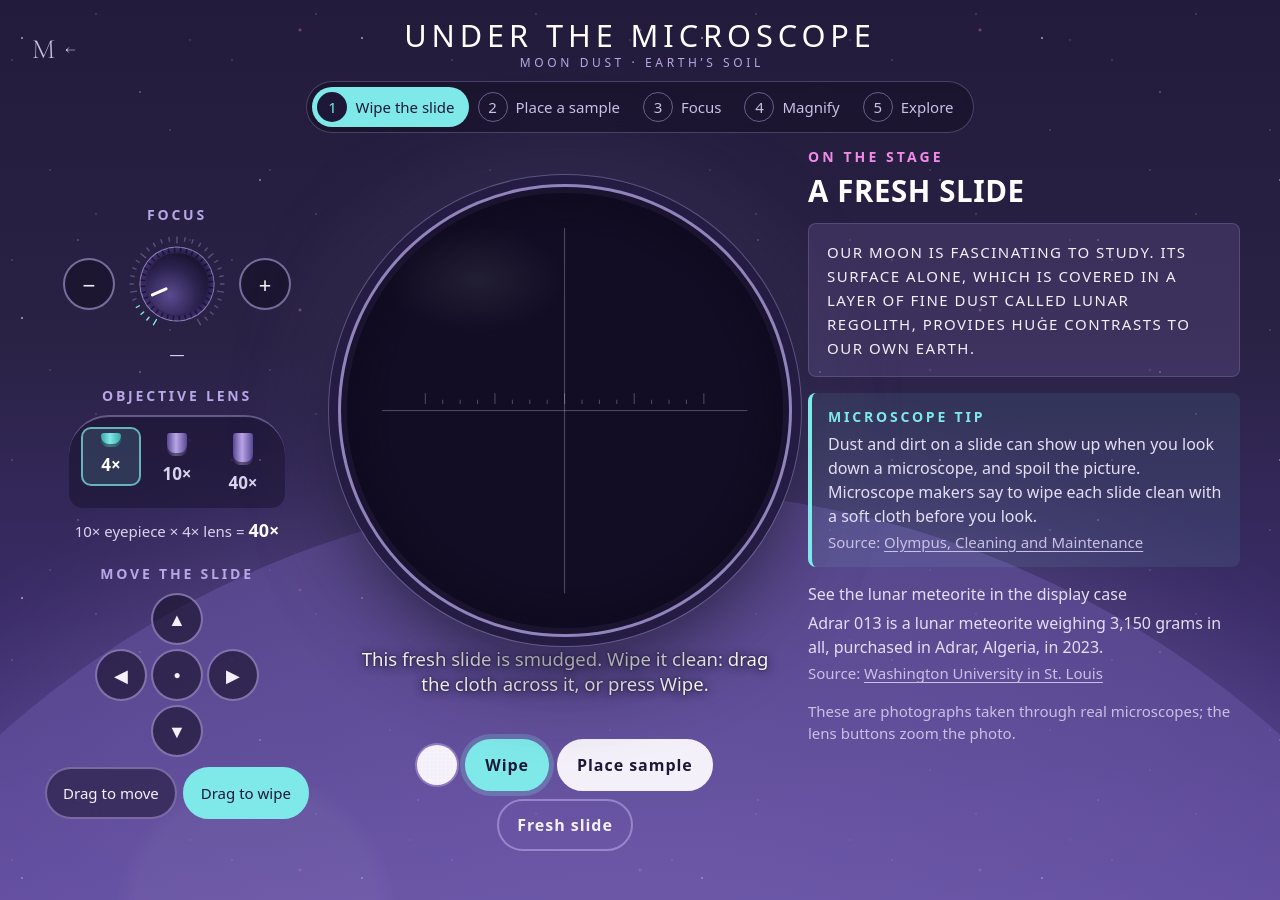
Test case: the procedure › sets the chosen sample’s name, caption, source and credit in the description panel, not under the eyepiece
Click the button "Wipe" at (507, 765), box [465, 739, 549, 791]
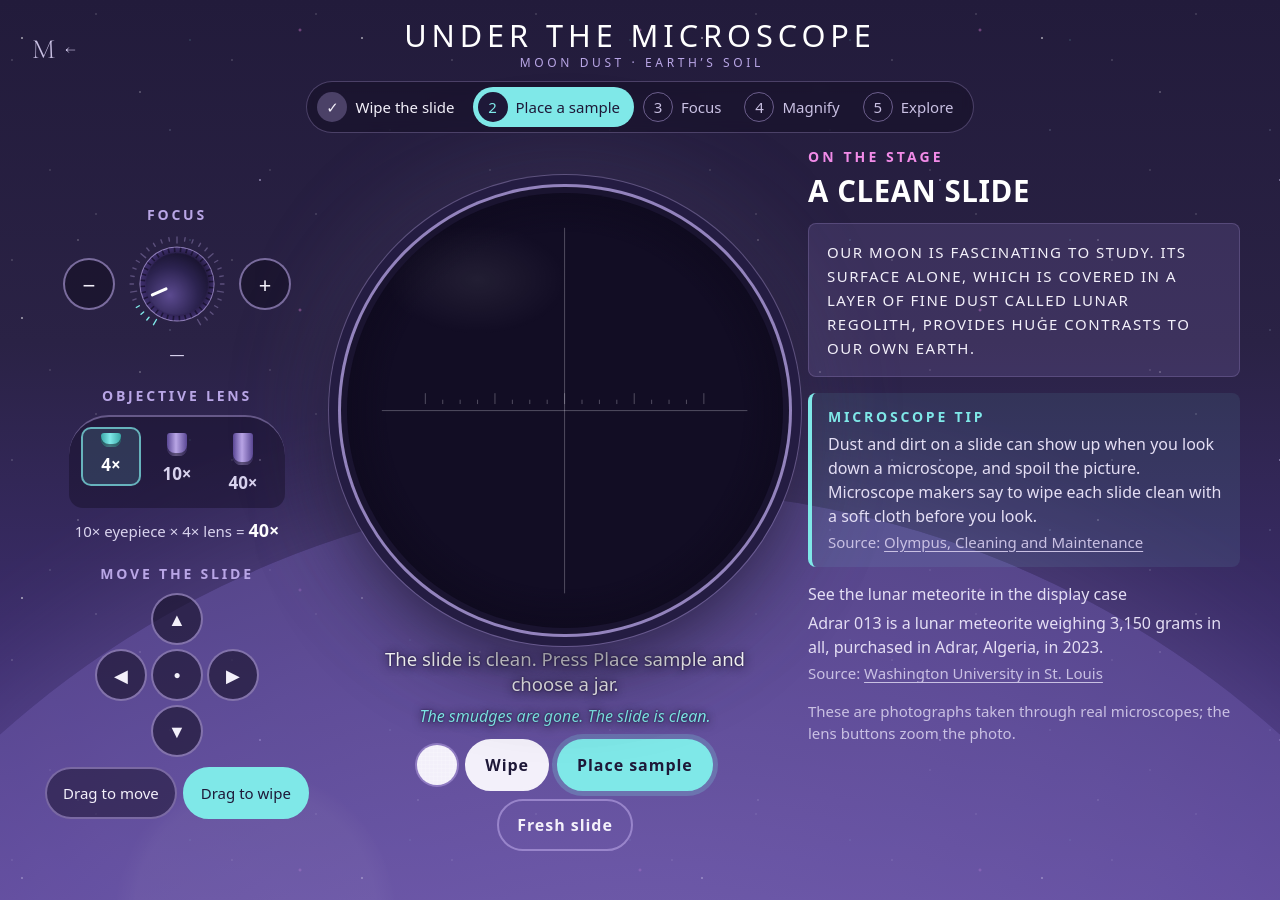
Click the button "Place sample" at (635, 765), box [557, 739, 713, 791]
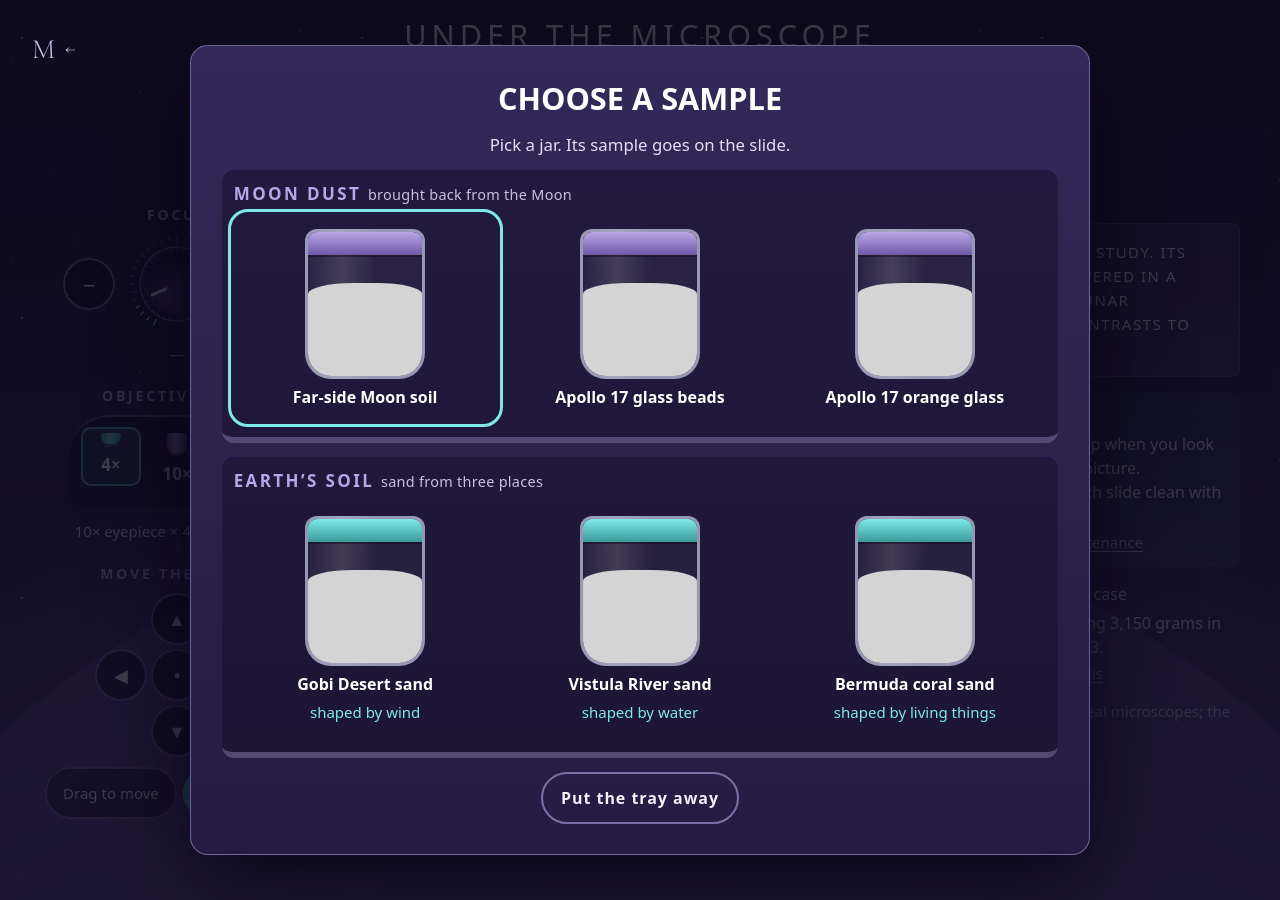
Click the button "Bermuda coral sand shaped by living things" at (915, 618), box [783, 502, 1046, 736]
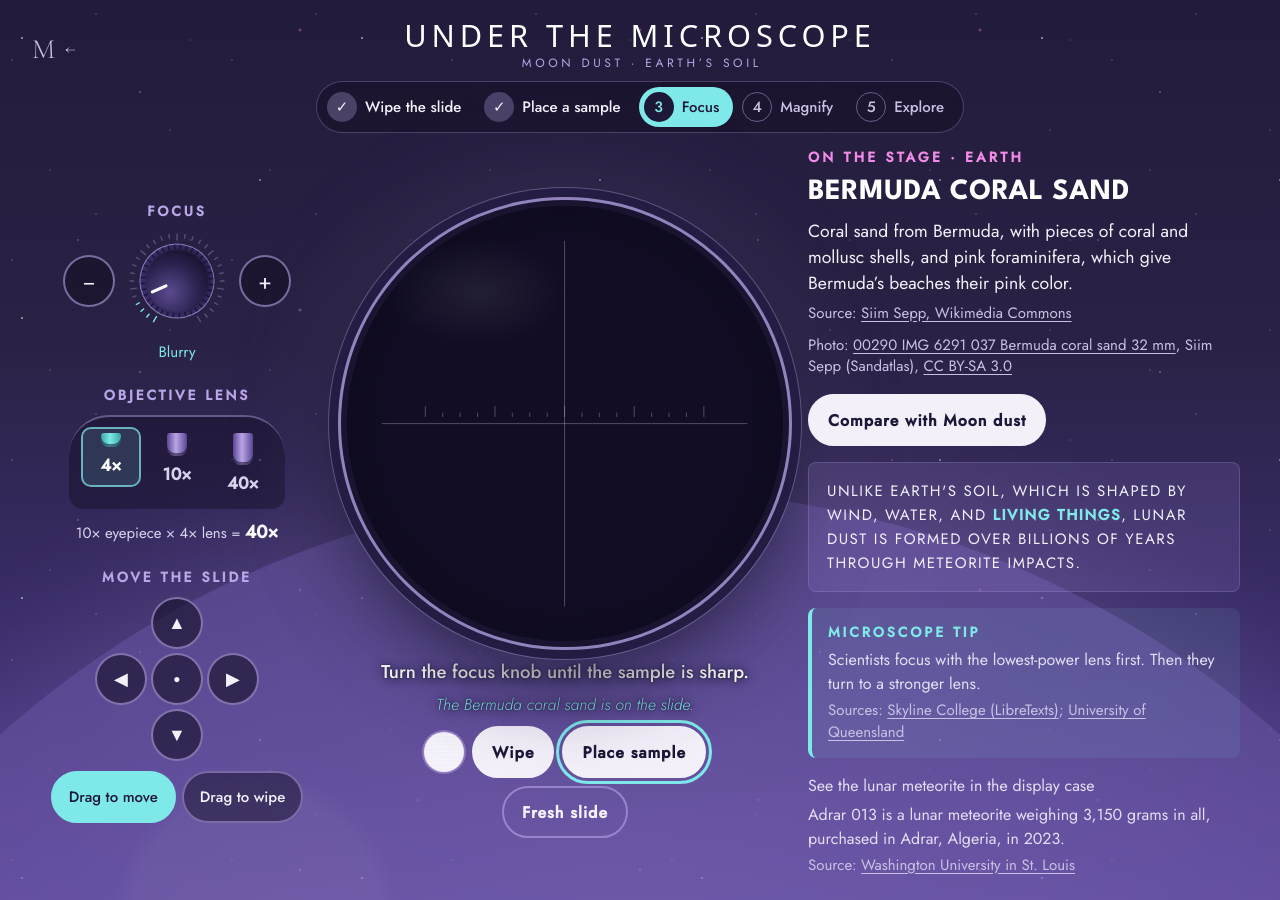
Now the text "living things" is shown, box [993, 504, 1121, 526]
Now the heading "Bermuda coral sand" is shown, box [808, 178, 1130, 205]
Now the text "Coral sand from Bermuda, with pieces of coral and mollusc shells, and pink foraminifera, which give Bermuda’s beaches th" is shown, box [808, 218, 1188, 296]
